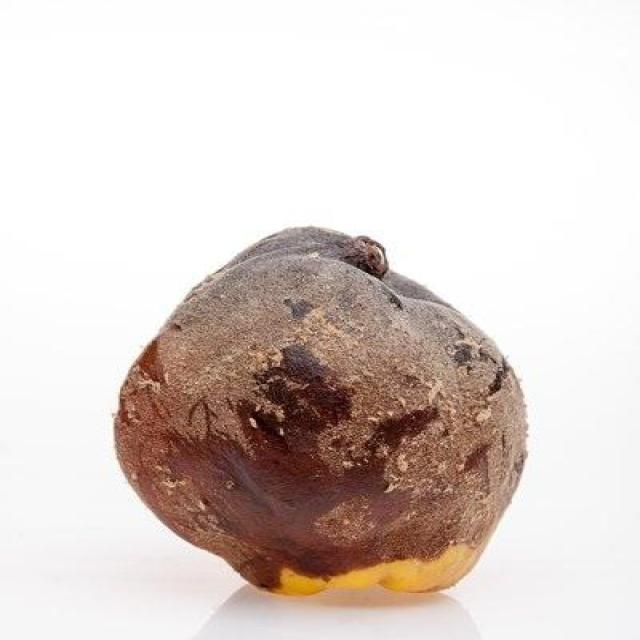organic: (112, 226, 530, 601)
